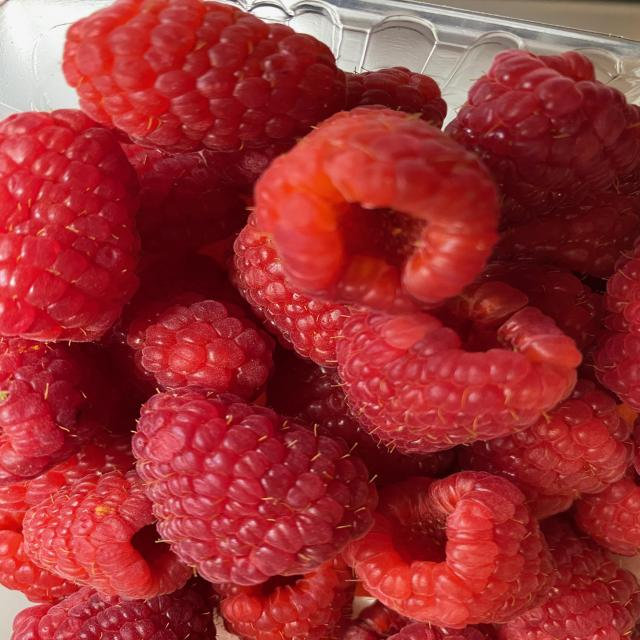Raspberry: (28, 18, 630, 628)
